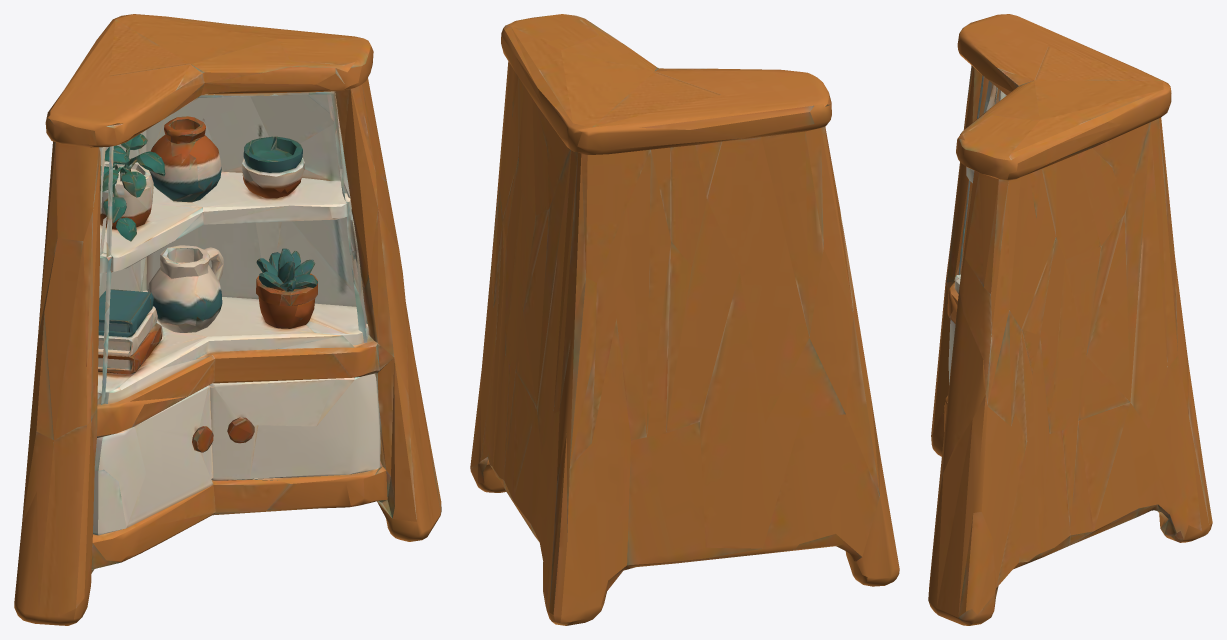
Rendered from cornerCabinet.glb.
3 renders of one model, left to right at view 1: azimuth 30°, elevation 25°; view 2: azimuth 150°, elevation 25°; view 3: azimuth 270°, elevation 25°, orthographic. The views are drawn at different scales.
Parts seen in each view (by area): view 1: Mesh_0; view 2: Mesh_0; view 3: Mesh_0.
Boxes of the visible parts, x1=… form: Mesh_0: x1=14, y1=14, x2=441, y2=625; Mesh_0: x1=470, y1=14, x2=899, y2=625; Mesh_0: x1=928, y1=14, x2=1212, y2=625.
Size of the model in its own units: 0.9105 by 1 by 0.5667.
1 material, 1 textured.
